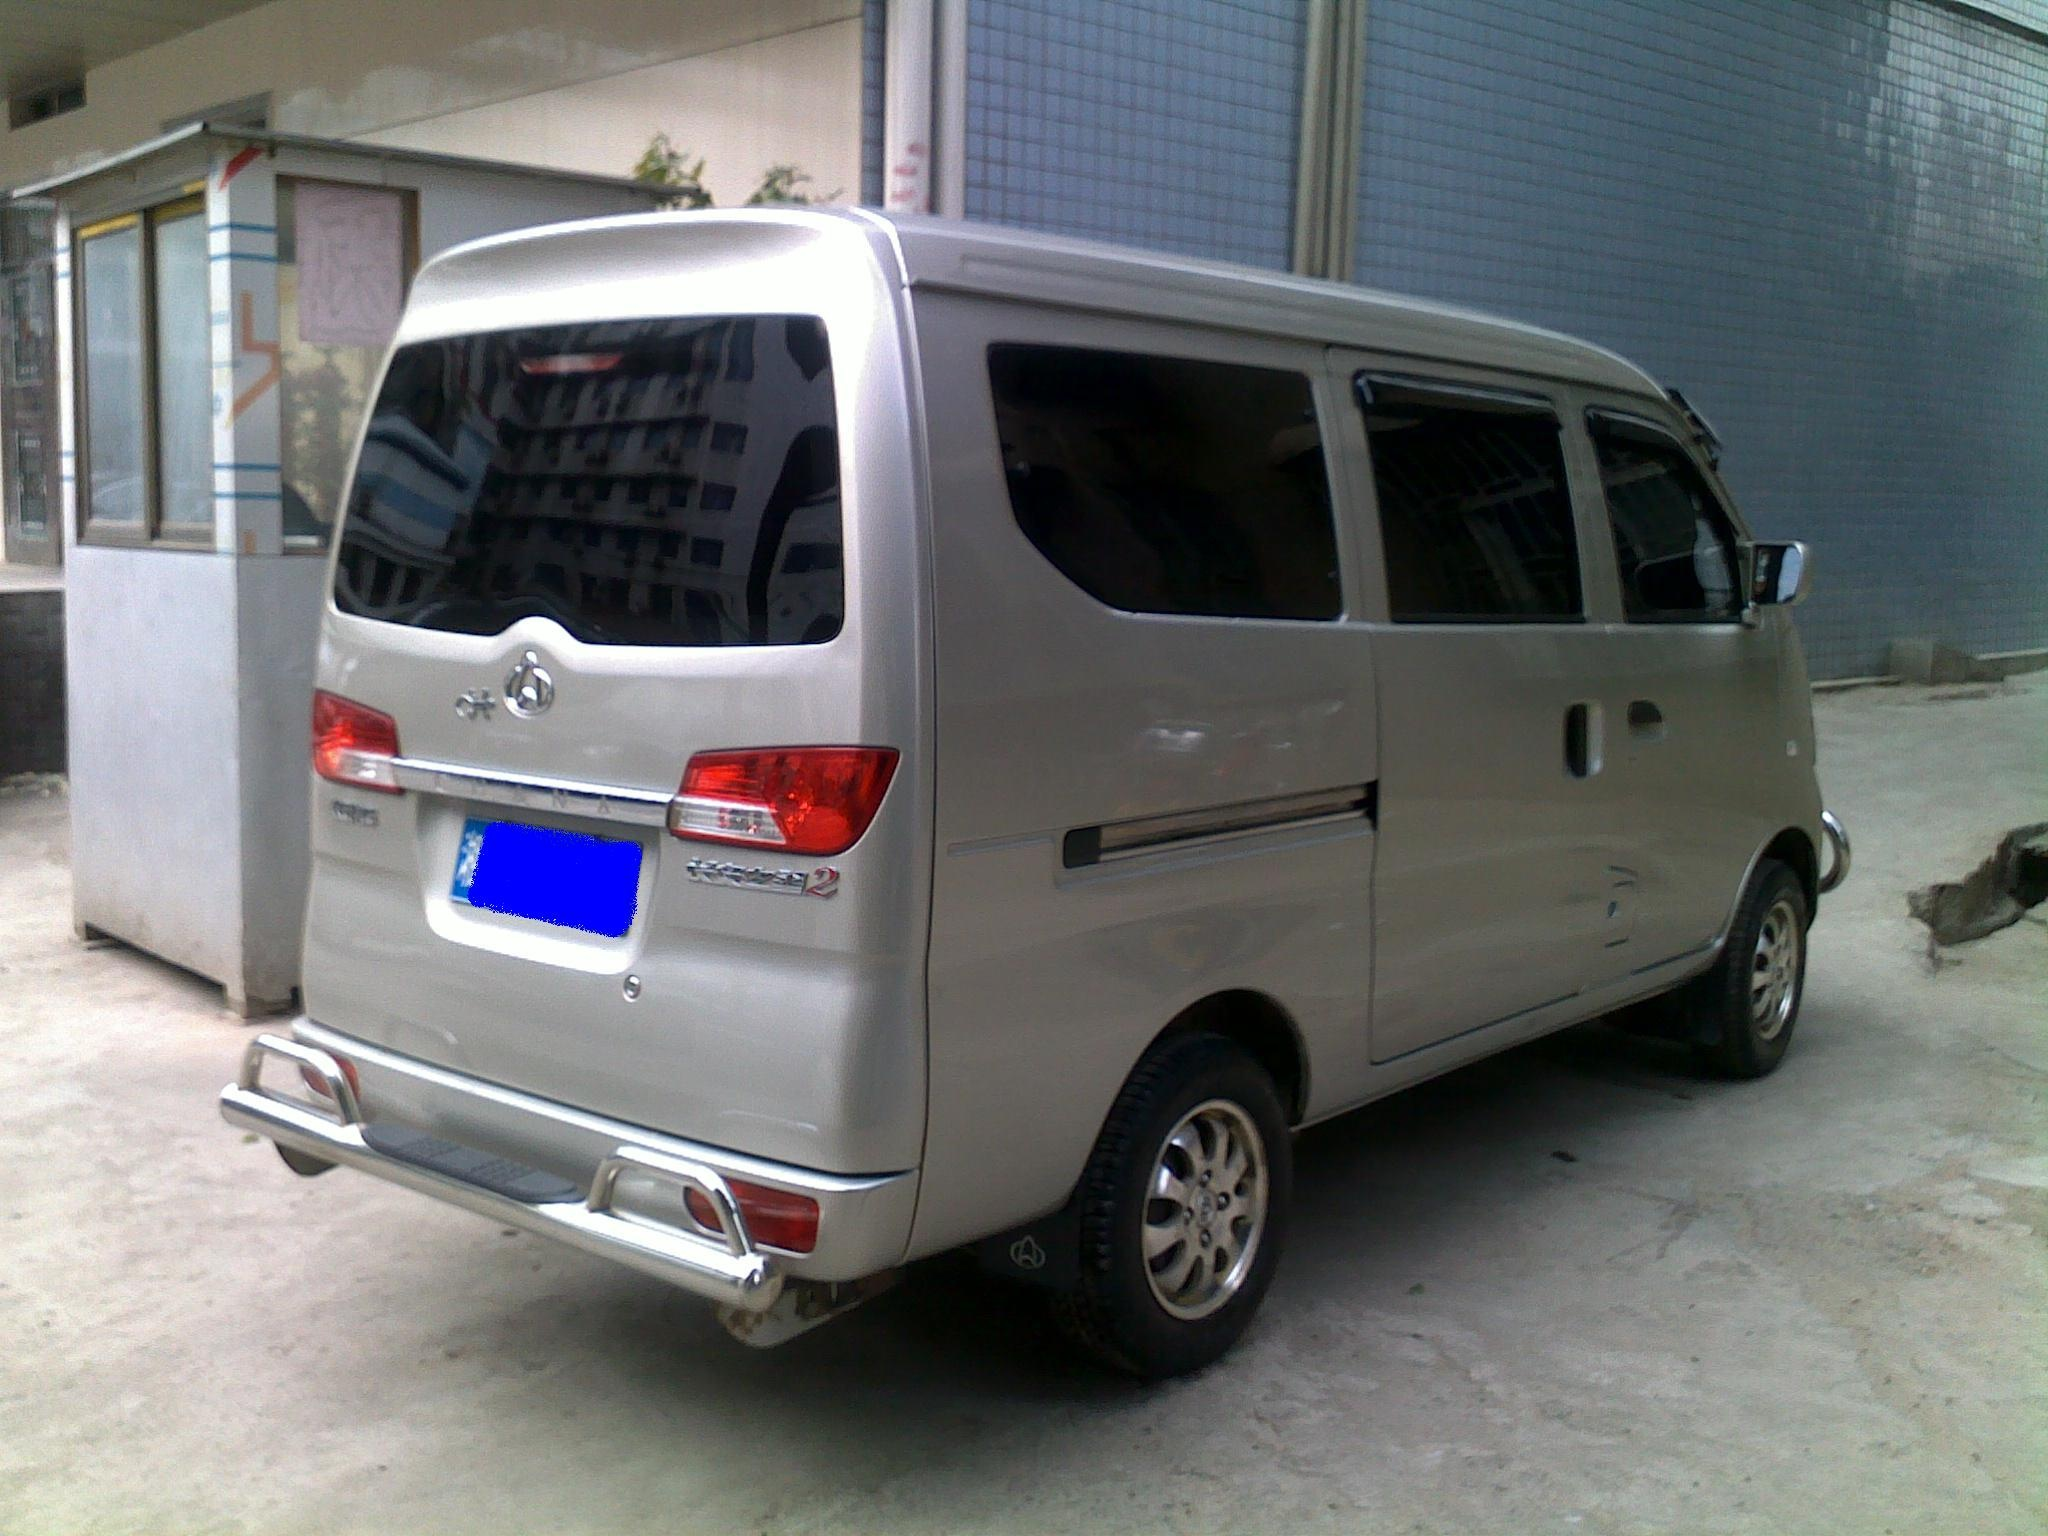minibus: (226, 210, 1829, 1362)
